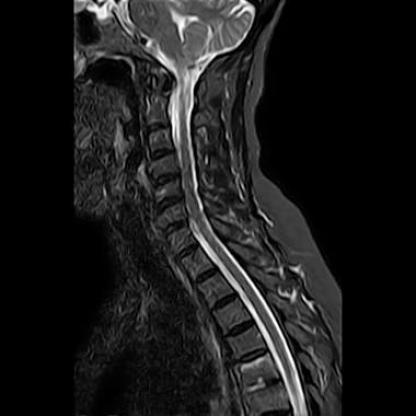Disc Bulgerotation: (153, 194, 187, 212), (150, 172, 182, 187), (160, 219, 190, 234)
